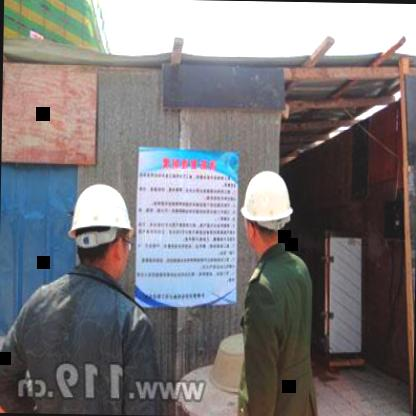helmet: (66, 176, 147, 282), (233, 157, 298, 260)
